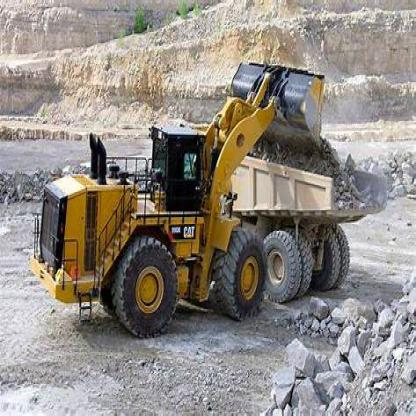bull_dozer/loader/grader: (29, 45, 328, 342)
dump_truck: (244, 146, 398, 301)
